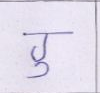u_matra: (26, 61, 51, 79)
